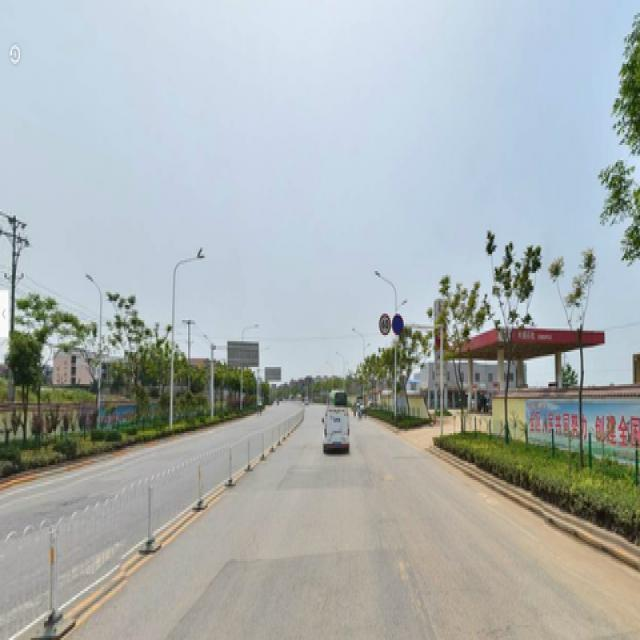koel: (560, 271, 597, 476), (498, 254, 538, 431), (449, 282, 479, 431), (118, 297, 154, 403), (34, 305, 78, 350)
